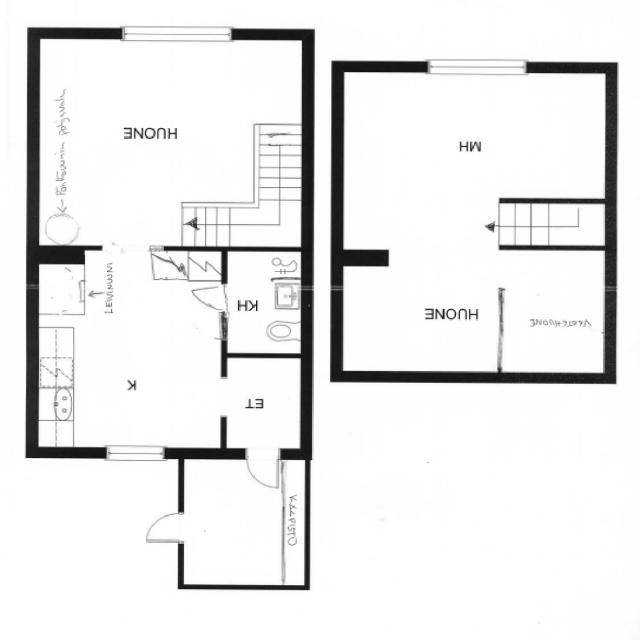door: (136, 507, 188, 548), (243, 447, 284, 491), (185, 278, 231, 316)
window: (117, 21, 235, 48), (421, 53, 532, 80), (96, 441, 175, 465), (96, 239, 167, 258)
zone: (34, 36, 283, 242), (32, 253, 230, 455), (338, 72, 614, 203), (1, 451, 191, 640), (336, 253, 505, 377), (180, 456, 300, 588), (225, 248, 308, 356), (222, 356, 306, 455), (495, 200, 611, 250)
